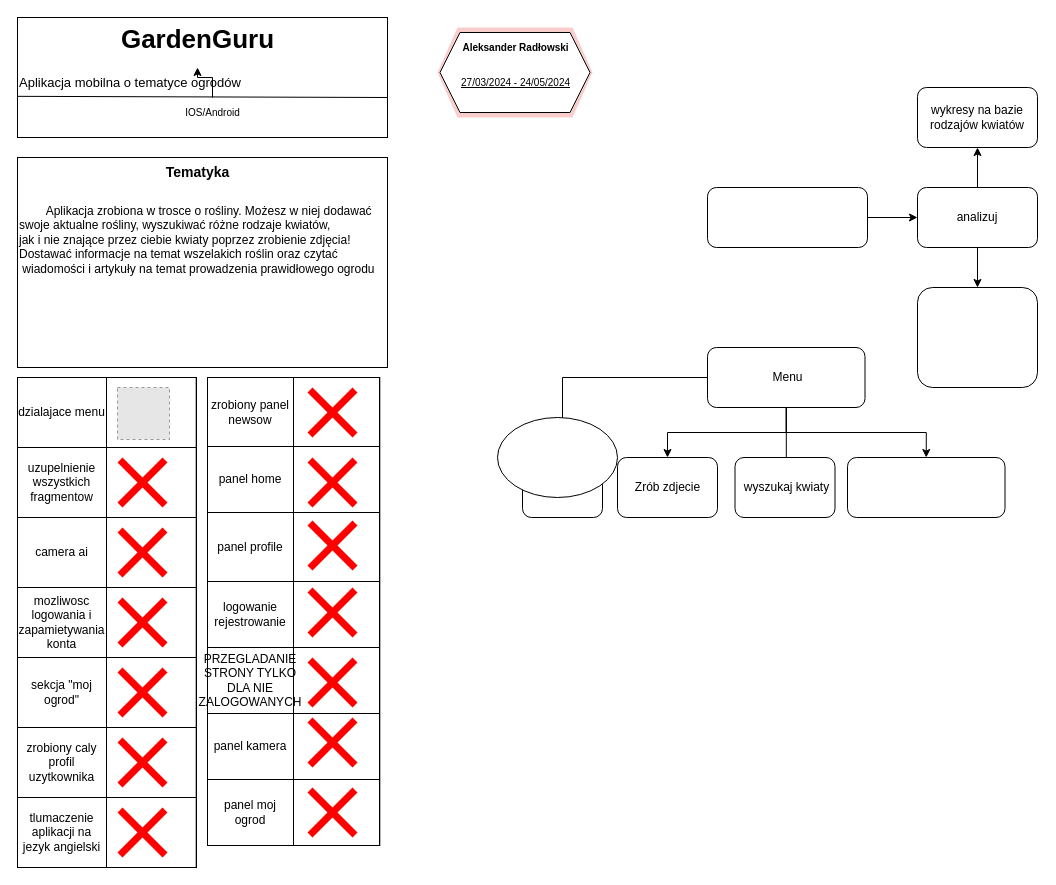
Some shapes in this 1056 by 885 pixel diagram are drawn without their labels. Grey dashed boxes stand in for pictures. The shapes that lost their labels are listed below. From the top down, each one's centre as x and y in pixels, then its label:
At [787,217]: "konto".
At [977,337]: "powiadomienia aby podlac kwiaty / mozliwosc zaznaczania ze podlalismy".
At [925,487]: "Ekwipunek".
